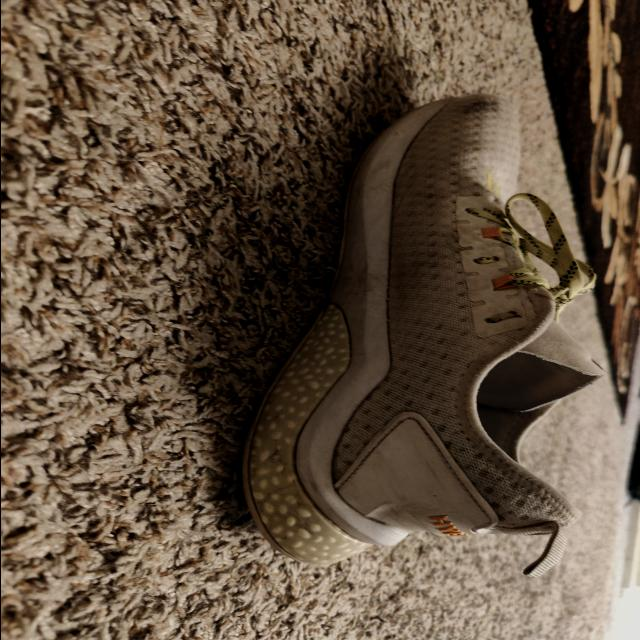white shoes: (242, 100, 587, 560)
